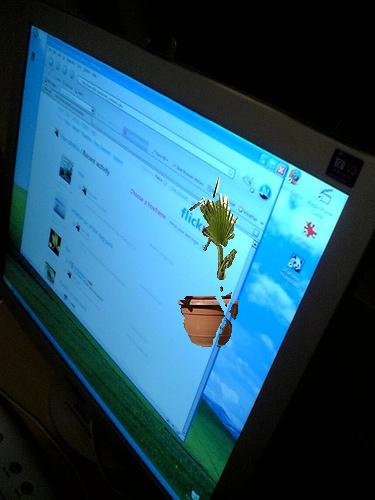tampered: (178, 178, 238, 347)
